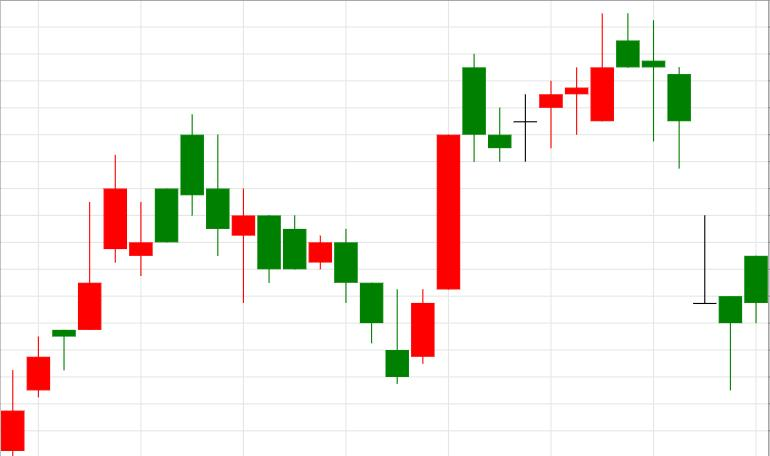inverse_hammer_rise: (181, 114, 409, 385)
